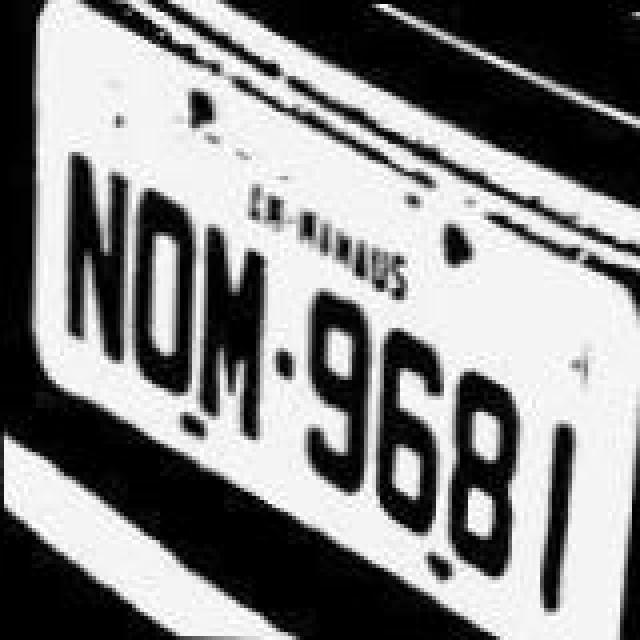1: (522, 396, 582, 628)
6: (366, 318, 446, 554)
8: (440, 348, 520, 592)
9: (292, 276, 380, 508)
M: (186, 222, 266, 442)
N: (56, 136, 136, 384)
O: (122, 176, 202, 404)
